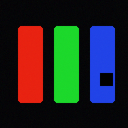1 square: (100, 73, 112, 85)
